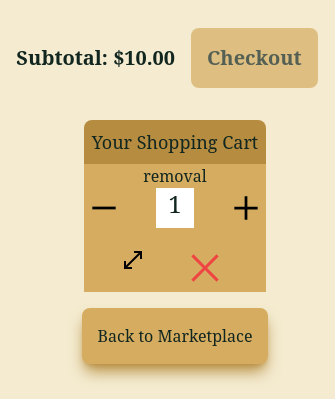
Test: Cart removes item from itemsMap if user clicks corresponding button › Default "empty cart" items are rendered when all items are removed
The width and height of the screenshot is (335, 399).
Click the button named "remove.removal": (205, 268) [181,244,229,292]
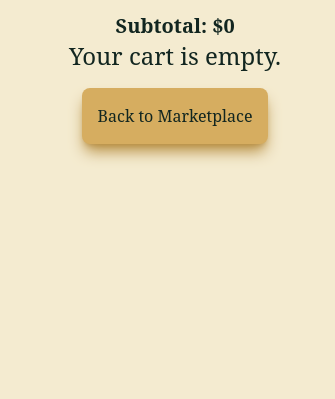
Result: the text "Your cart is empty." is shown at [69,40,281,72]
